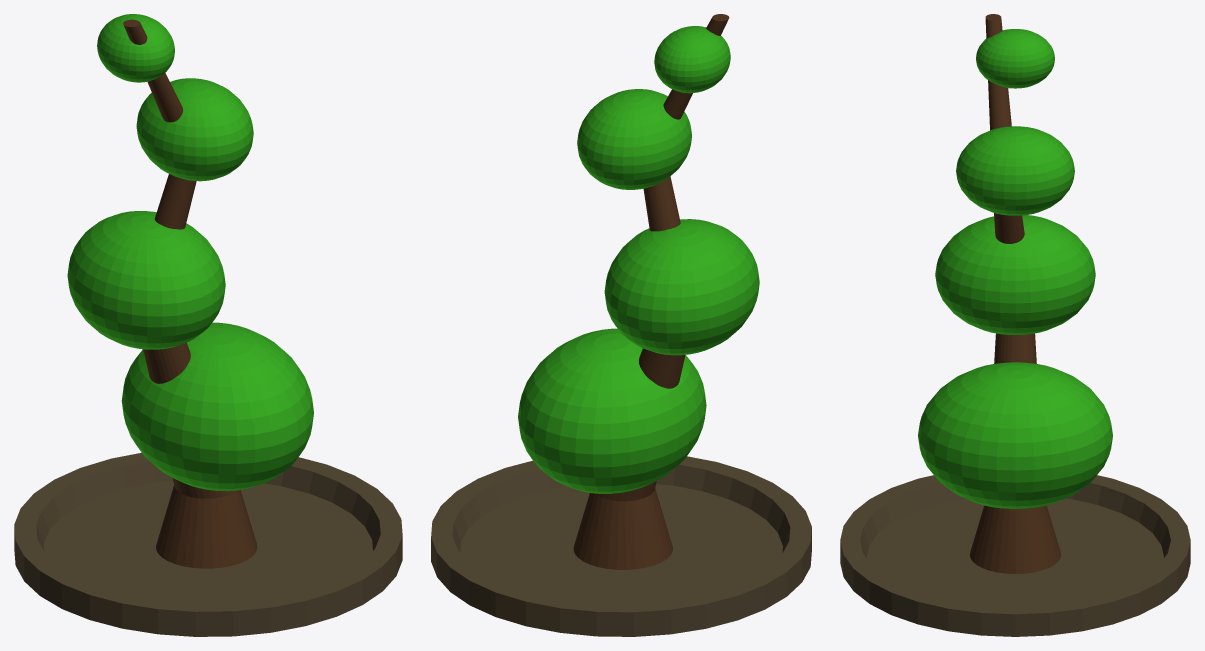
File: arbol 1 (1).fbx
The picture shows the model from 3 angles, left to right: view 1: azimuth 30°, elevation 25°; view 2: azimuth 150°, elevation 25°; view 3: azimuth 270°, elevation 25°; orthographic projection. The views are drawn at different scales.
Parts seen in each view (by area): view 1: Cylinder.007; view 2: Cylinder.007; view 3: Cylinder.007.
Part boxes in pixels (left/top/right/bottom): Cylinder.007: left=14, top=14, right=402, bottom=636; Cylinder.007: left=431, top=14, right=811, bottom=636; Cylinder.007: left=840, top=14, right=1190, bottom=636.
Bounding box in the file's own units: 318 × 507 × 318.
